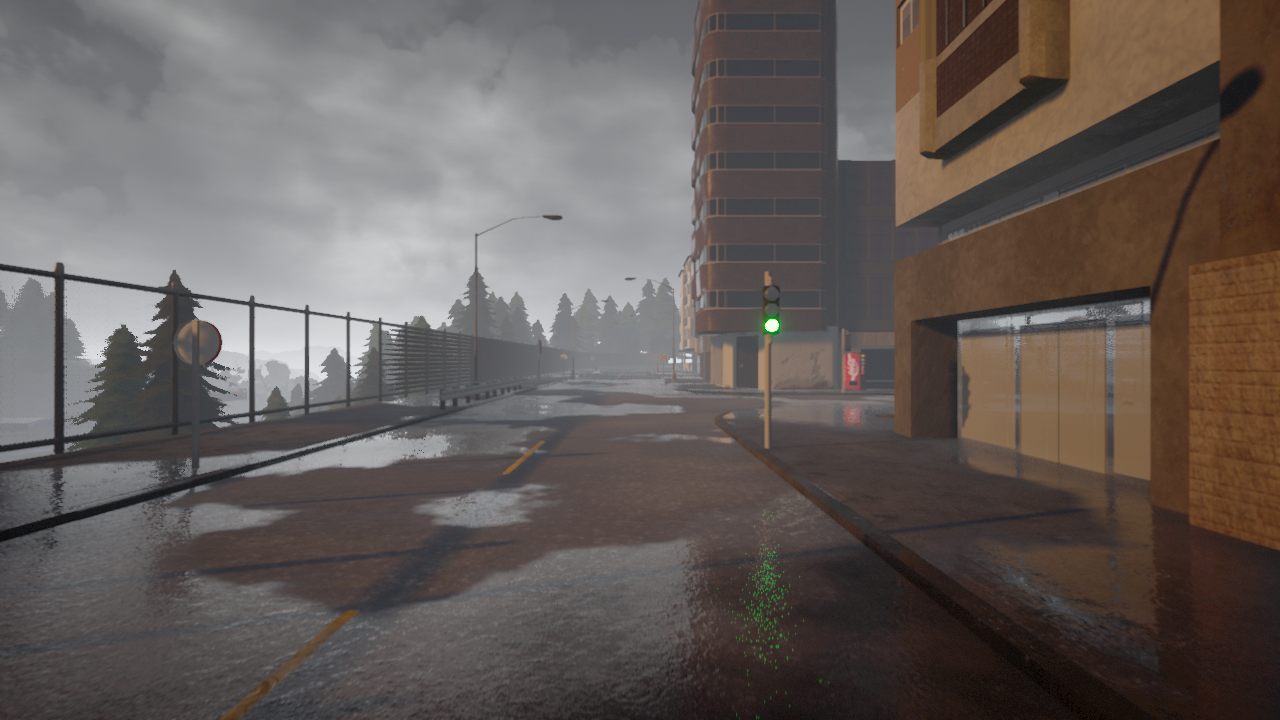green: (761, 283, 785, 335)
